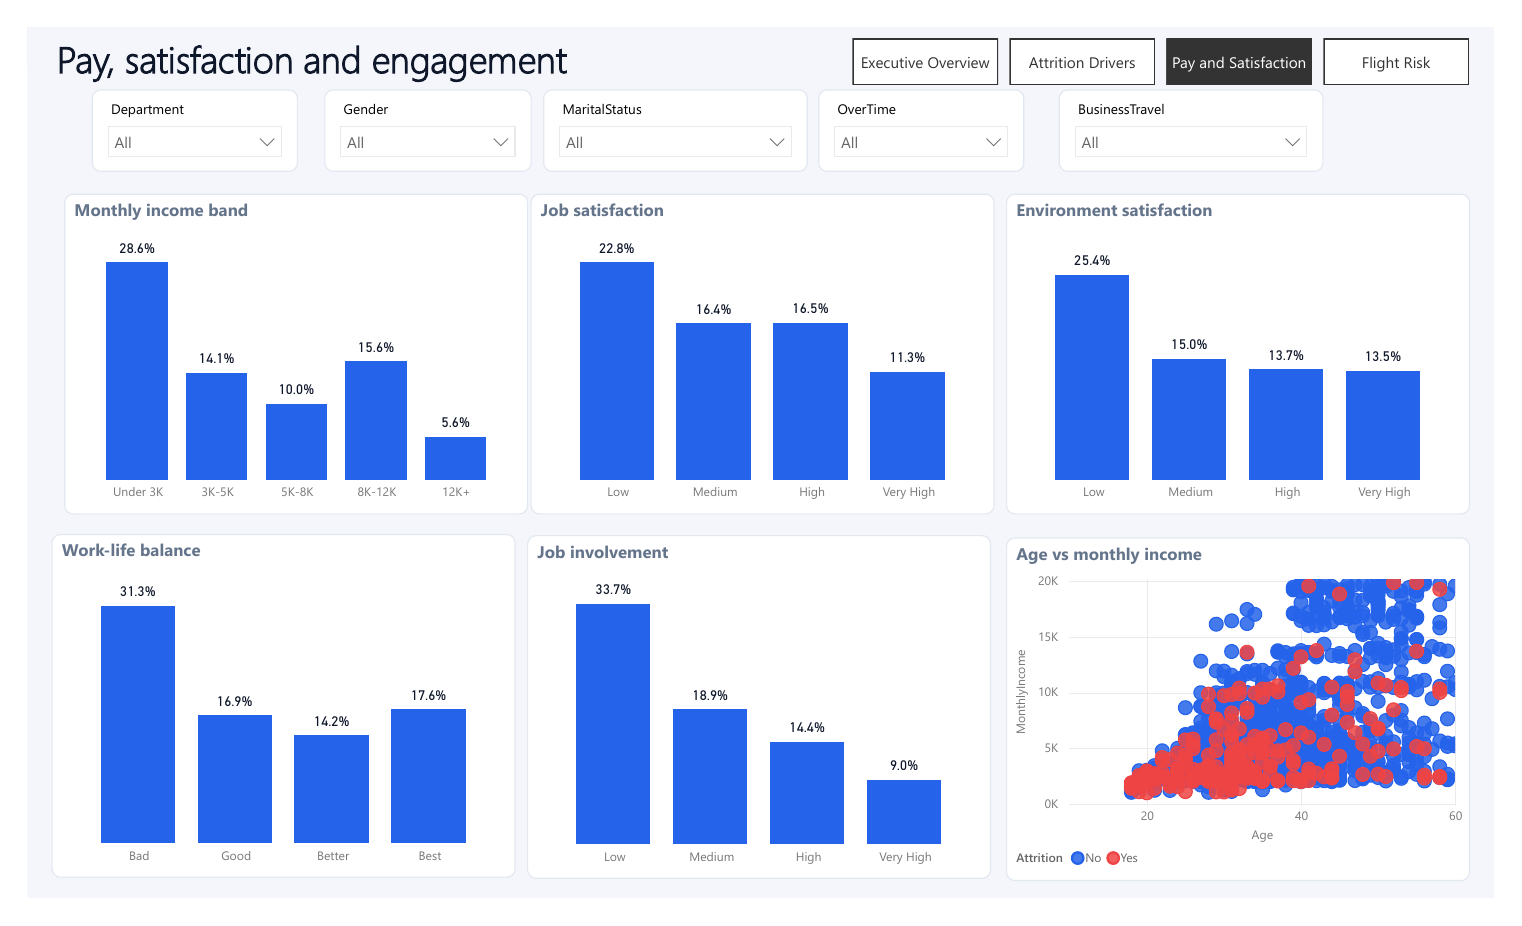

The page's visual inventory and layout, read from the dashboard file:
{"tool":"powerbi","page":{"name":"Pay and Satisfaction","canvas":[1280,760],"ordinal":2},"visuals":[{"type":"textbox","box":[20.6,0,688.9,53.5],"z":0},{"type":"pageNavigator","box":[720,10,540,40],"z":1000},{"type":"slicer","fields":{"Values":["HR.Gender"]},"box":[259.3,53.5,181.1,72.7],"z":3000},{"type":"slicer","fields":{"Values":["HR.MaritalStatus"]},"box":[450.1,53.5,230.5,72.7],"z":4000},{"type":"slicer","fields":{"Values":["HR.OverTime"]},"box":[690.2,53.5,179.8,72.7],"z":5000},{"type":"slicer","fields":{"Values":["HR.BusinessTravel"]},"box":[900.2,53.5,230.5,72.7],"z":6000},{"type":"clusteredColumnChart","title":"Monthly income band","fields":{"Category":["HR.IncomeBand"],"Y":["HR.Attrition Rate"]},"box":[31.6,145.5,405,280],"z":7000},{"type":"clusteredColumnChart","title":"Job satisfaction","fields":{"Category":["HR.JobSatisfactionLabel"],"Y":["HR.Attrition Rate"]},"box":[439.1,145.5,405,280],"z":8000},{"type":"clusteredColumnChart","title":"Environment satisfaction","fields":{"Category":["HR.EnvironmentSatisfactionLabel"],"Y":["HR.Attrition Rate"]},"box":[853.5,145.5,405,280],"z":9000},{"type":"clusteredColumnChart","title":"Work-life balance","fields":{"Category":["HR.WorkLifeBalanceLabel"],"Y":["HR.Attrition Rate"]},"box":[20.6,441.9,405,300],"z":10000},{"type":"clusteredColumnChart","title":"Job involvement","fields":{"Category":["HR.JobInvolvementLabel"],"Y":["HR.Attrition Rate"]},"box":[436.4,443.2,405,300],"z":11000},{"type":"scatterChart","title":"Age vs monthly income","fields":{"Series":["HR.Attrition"],"X":["HR.Age"],"Y":["HR.MonthlyIncome"]},"box":[853.5,444.6,405,300],"z":12000},{"type":"slicer","fields":{"Values":["HR.Department"]},"box":[56.3,53.5,179.8,72.7],"z":12001}]}

Visuals, with their boxes in screenshot pixels (x1, y1, x2, y2), scaled from the page's 1280x760 canvas onto the 1522x926 screenshot:
textbox: [24, 0, 844, 65]
pageNavigator: [856, 12, 1498, 61]
slicer - HR.Gender: [308, 65, 524, 154]
slicer - HR.MaritalStatus: [535, 65, 809, 154]
slicer - HR.OverTime: [821, 65, 1034, 154]
slicer - HR.BusinessTravel: [1070, 65, 1344, 154]
"Monthly income band" clusteredColumnChart: [38, 177, 519, 518]
"Job satisfaction" clusteredColumnChart: [522, 177, 1004, 518]
"Environment satisfaction" clusteredColumnChart: [1015, 177, 1496, 518]
"Work-life balance" clusteredColumnChart: [24, 538, 506, 904]
"Job involvement" clusteredColumnChart: [519, 540, 1000, 906]
"Age vs monthly income" scatterChart: [1015, 542, 1496, 907]
slicer - HR.Department: [67, 65, 281, 154]
